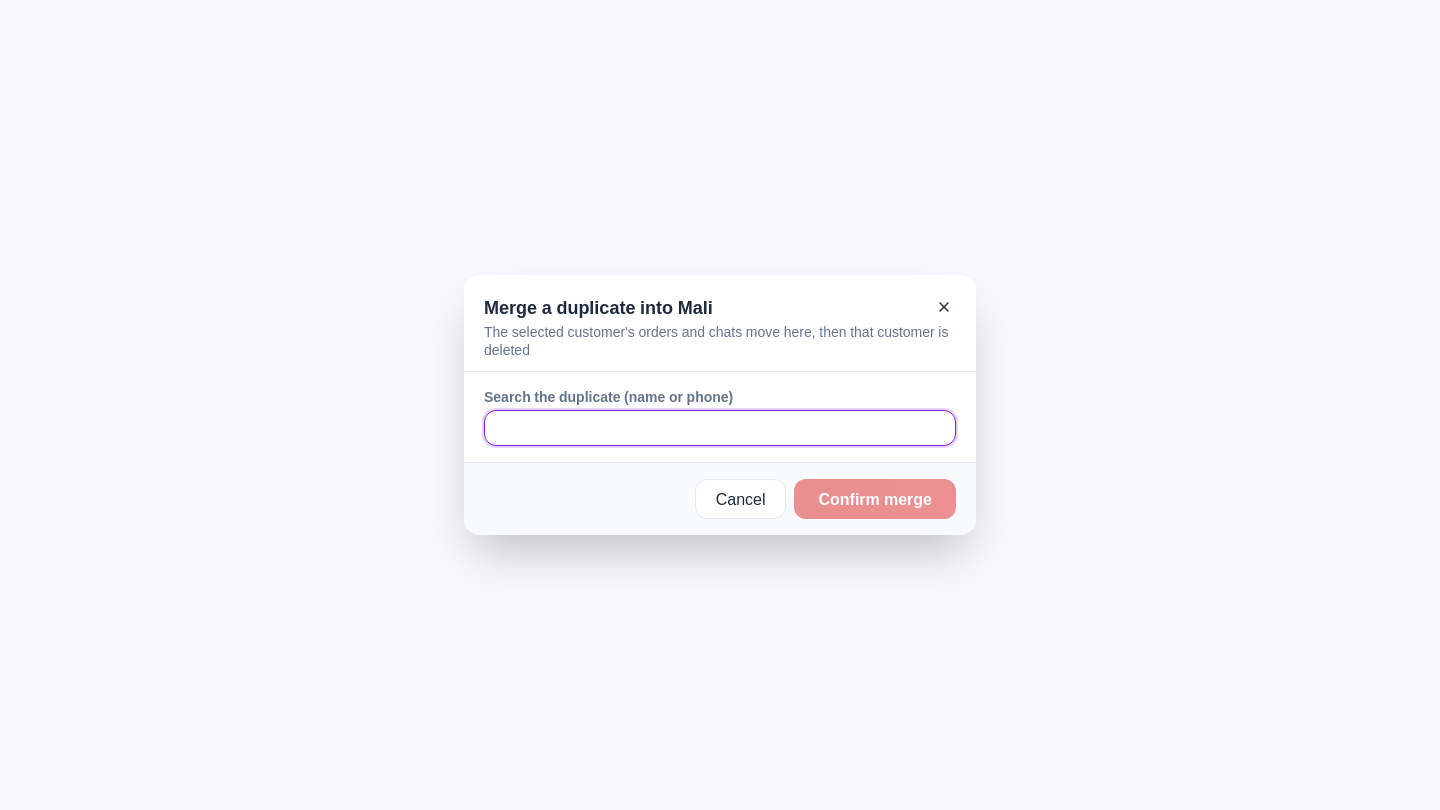
Test: MergeCustomerDialog › ທັງສອງມີເບີຕ່າງກັນ: ເຕືອນວ່າເບີຂອງ source ຈະຖືກຖິ້ມ; ປ່ຽນໃຈເລືອກຄົນອື່ນໄດ້
The width and height of the screenshot is (1440, 810).
Type "mali" into the search field labelled "Search the duplicate (name or phone)" at [720, 428], box [484, 410, 956, 446]
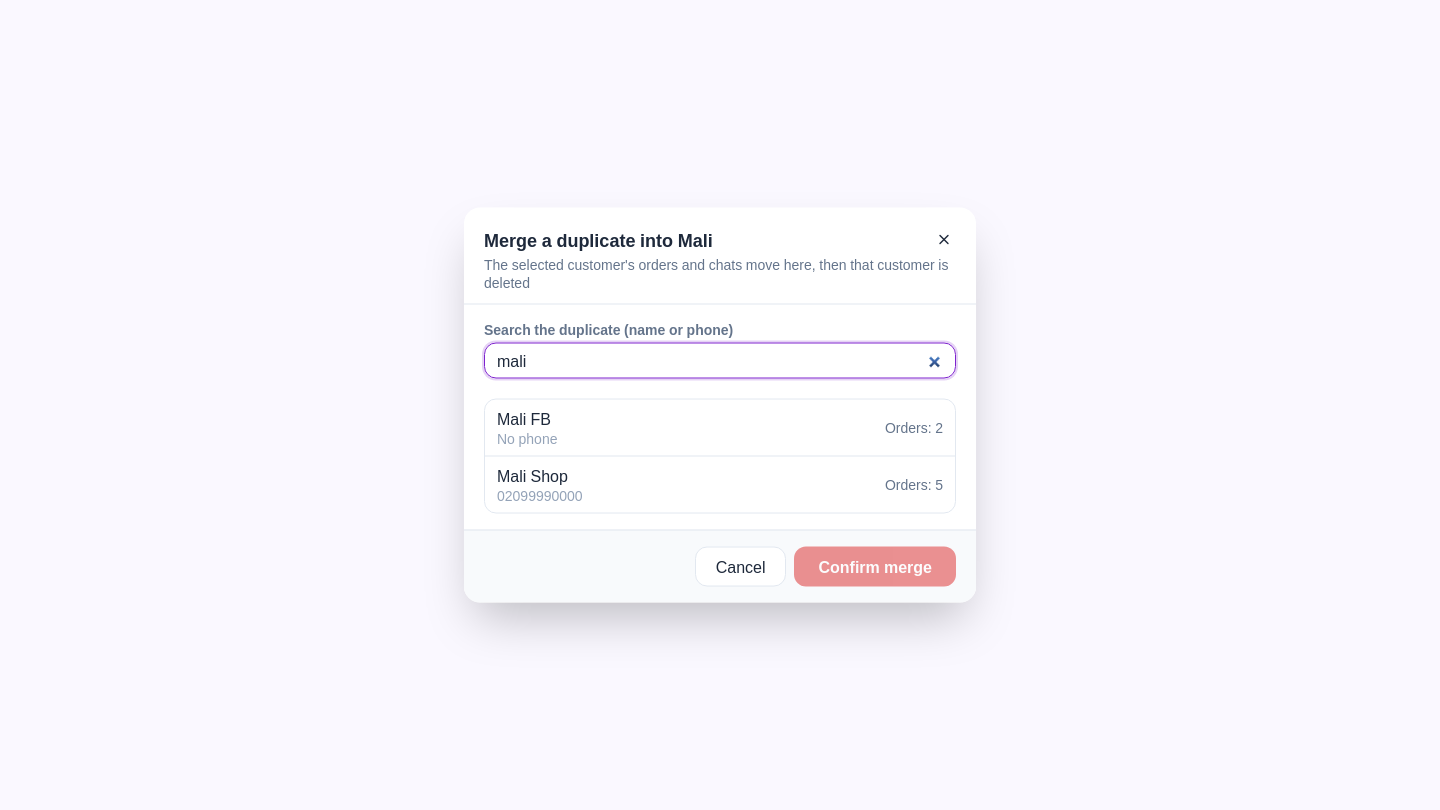
Click the button with aria-label "Select Mali Shop" at [532, 476], box [485, 456, 955, 512]
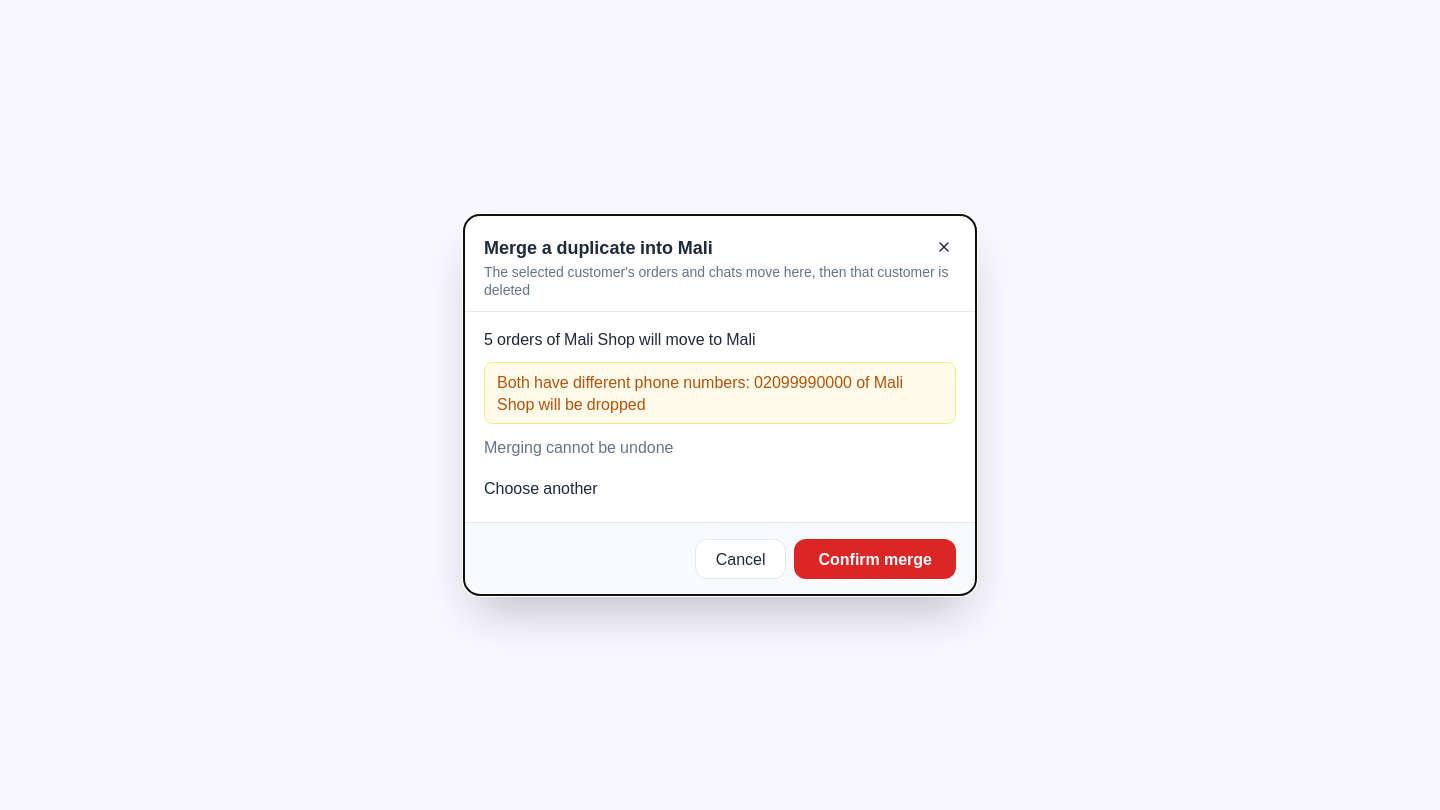
Now the text "Both have different phone numbers: 02099990000 of Mali Shop will be dropped" is shown, box [484, 362, 956, 424]
Click the button "Choose another" at [541, 488], box [484, 470, 598, 506]
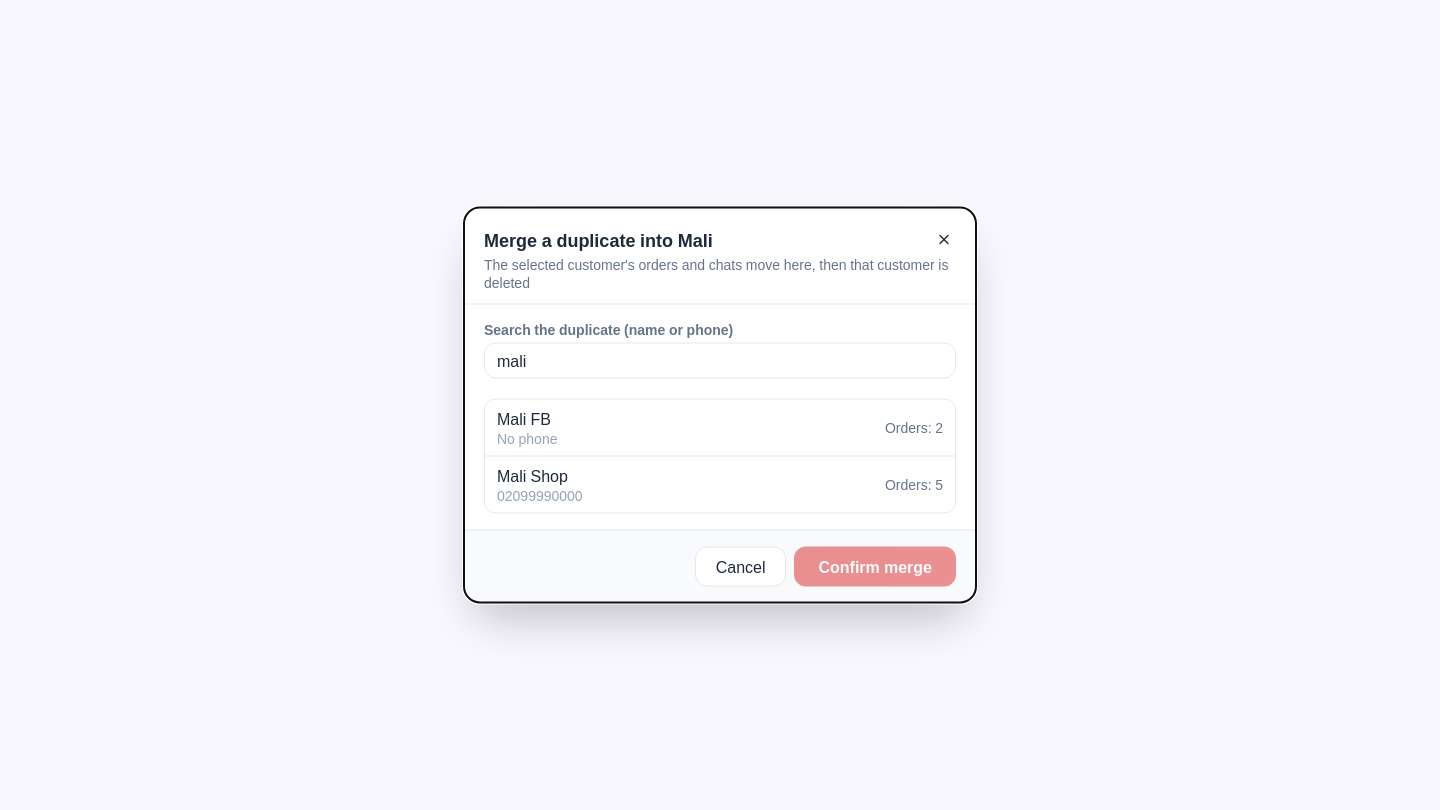
Now the search field labelled "Search the duplicate (name or phone)" is shown, box [484, 342, 956, 378]
